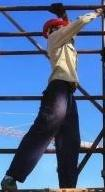boots: (1, 174, 18, 191)
gloves: (47, 0, 68, 18), (0, 33, 11, 53)
hard-hat: (42, 17, 68, 38)
